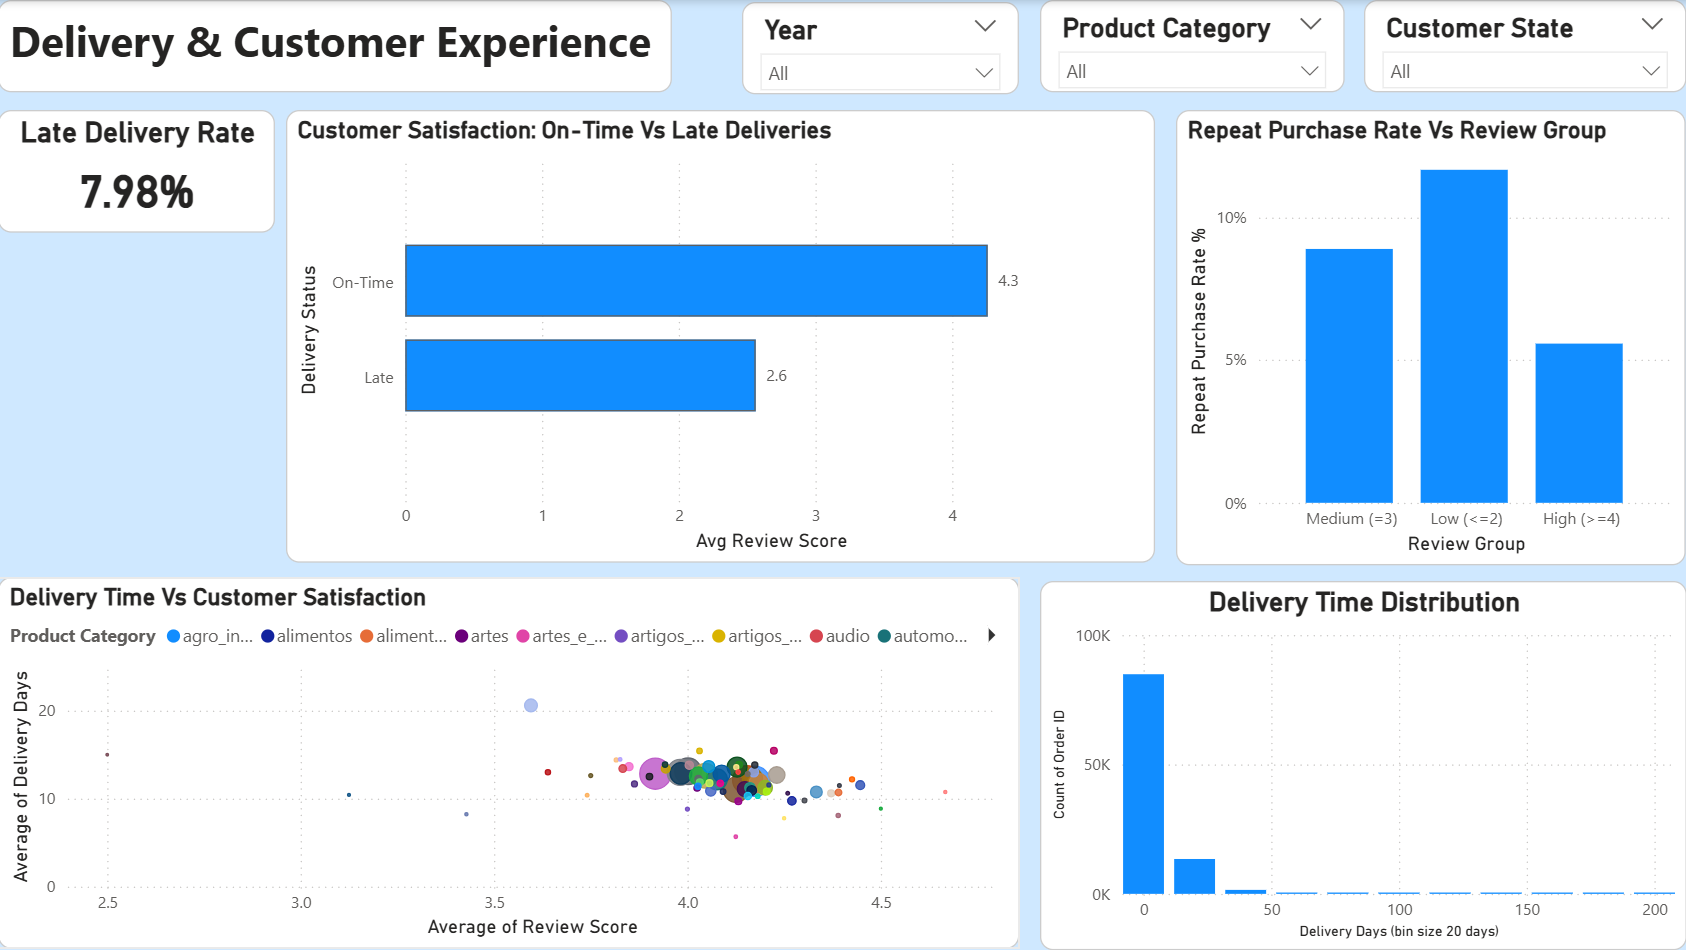

Layout of this report page (visuals, bound fields, positions):
{"tool":"powerbi","page":{"name":"Delivery & Experience","canvas":[1280,720],"ordinal":3},"visuals":[{"type":"card","title":"Late Delivery Rate","fields":{"Values":["Olist Orders.Late Delivery %"]},"box":[0,83.3,210.2,92.8],"z":0},{"type":"clusteredColumnChart","title":"Delivery Time Distribution","fields":{"Category":["Olist Orders.Delivery Days (bins)"],"Y":["CountNonNull(Olist Orders.Order ID)"]},"box":[789.6,439.3,490.4,280.2],"z":1000},{"type":"barChart","title":"Customer Satisfaction: On-Time Vs Late Deliveries","fields":{"Category":["Olist Orders.Delivery Status"],"Y":["Olist Orders.Avg Review Score"]},"box":[217.8,83.3,658.9,342.7],"z":2000},{"type":"scatterChart","title":"Delivery Time Vs Customer Satisfaction","fields":{"X":["Avg(Olist Orders.Review Score)"],"Size":["Olist Orders.Total Orders"],"Series":["Olist Orders.Product Category"],"Y":["Avg(Olist Orders.Delivery Days)"]},"box":[0,437.4,774.4,282.1],"z":3000},{"type":"columnChart","title":"Repeat Purchase Rate Vs Review Group","fields":{"Category":["Olist Orders.Review Group"],"Y":["Olist Orders.Repeat Purchase Rate %"]},"box":[893.7,83.3,386.3,344.6],"z":4000},{"type":"slicer","title":"Product Category","fields":{"Values":["Olist Orders.Product Category"]},"box":[789.6,0,231,70.1],"z":5000},{"type":"slicer","fields":{"Values":["Date Table.Year"]},"box":[564.3,1.9,210.2,70.1],"z":6000},{"type":"slicer","fields":{"Values":["Olist Orders.Customer State"]},"box":[1035.7,0,244.3,70.1],"z":7000},{"type":"textbox","box":[0,0,511.2,70.1],"z":8000}]}

Visuals, with their boxes in screenshot pixels (x1, y1, x2, y2), scaled from the page's 1280x720 canvas onto the 1686x950 screenshot:
"Late Delivery Rate" card: x1=0 y1=110 x2=277 y2=232
"Delivery Time Distribution" clusteredColumnChart: x1=1040 y1=580 x2=1685 y2=949
"Customer Satisfaction: On-Time Vs Late Deliveries" barChart: x1=287 y1=110 x2=1155 y2=562
"Delivery Time Vs Customer Satisfaction" scatterChart: x1=0 y1=577 x2=1020 y2=949
"Repeat Purchase Rate Vs Review Group" columnChart: x1=1177 y1=110 x2=1685 y2=565
"Product Category" slicer: x1=1040 y1=0 x2=1344 y2=92
slicer - Date Table.Year: x1=743 y1=3 x2=1020 y2=95
slicer - Olist Orders.Customer State: x1=1364 y1=0 x2=1685 y2=92
textbox: x1=0 y1=0 x2=673 y2=92
